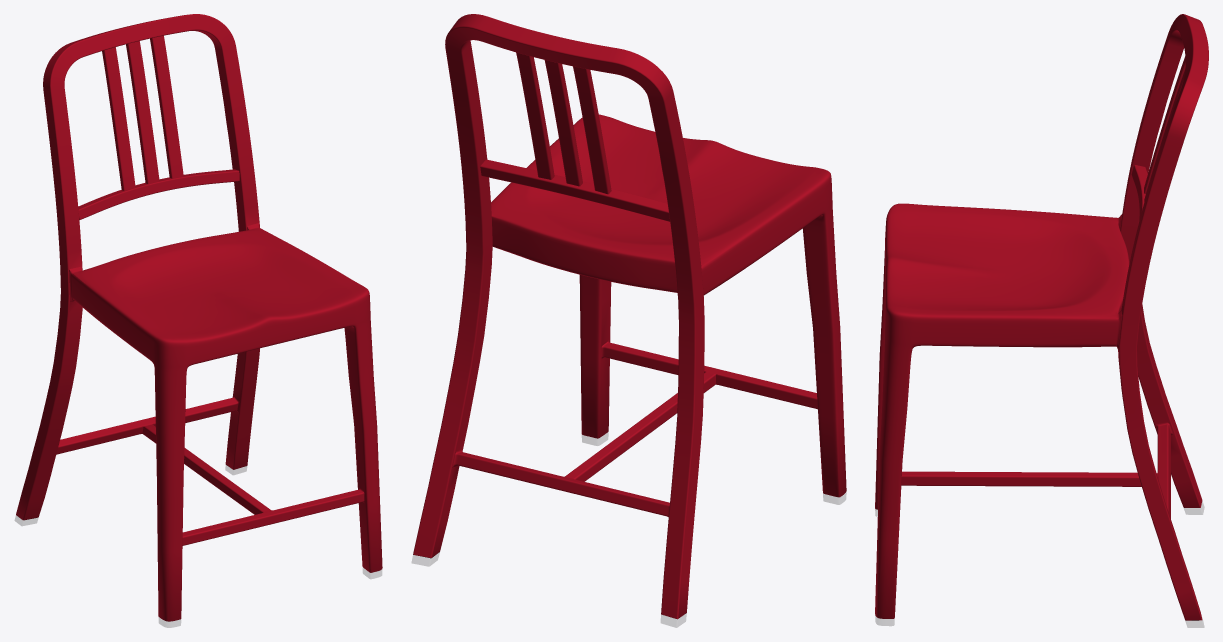
The model's file is emeco.gltf.
3 views of the same model, side by side, from view 1: azimuth 30°, elevation 25°; view 2: azimuth 150°, elevation 25°; view 3: azimuth 270°, elevation 25° (orthographic). The views are drawn at different scales.
Parts seen in each view (by area): view 1: emeco (×2); view 2: emeco (×2); view 3: emeco.
Boxes of the visible parts, x1,y1,x2,y2 form: emeco (×2): (15,14,382,627); emeco (×2): (412,14,846,627); emeco: (875,14,1208,620).
Size of the model in its own units: 0.4312 by 0.861 by 0.5024.
2 materials, 2 textured.
